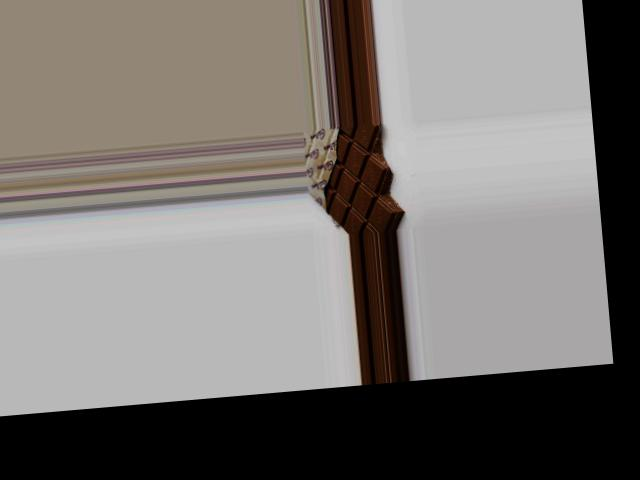chocolate: (303, 122, 397, 236)
